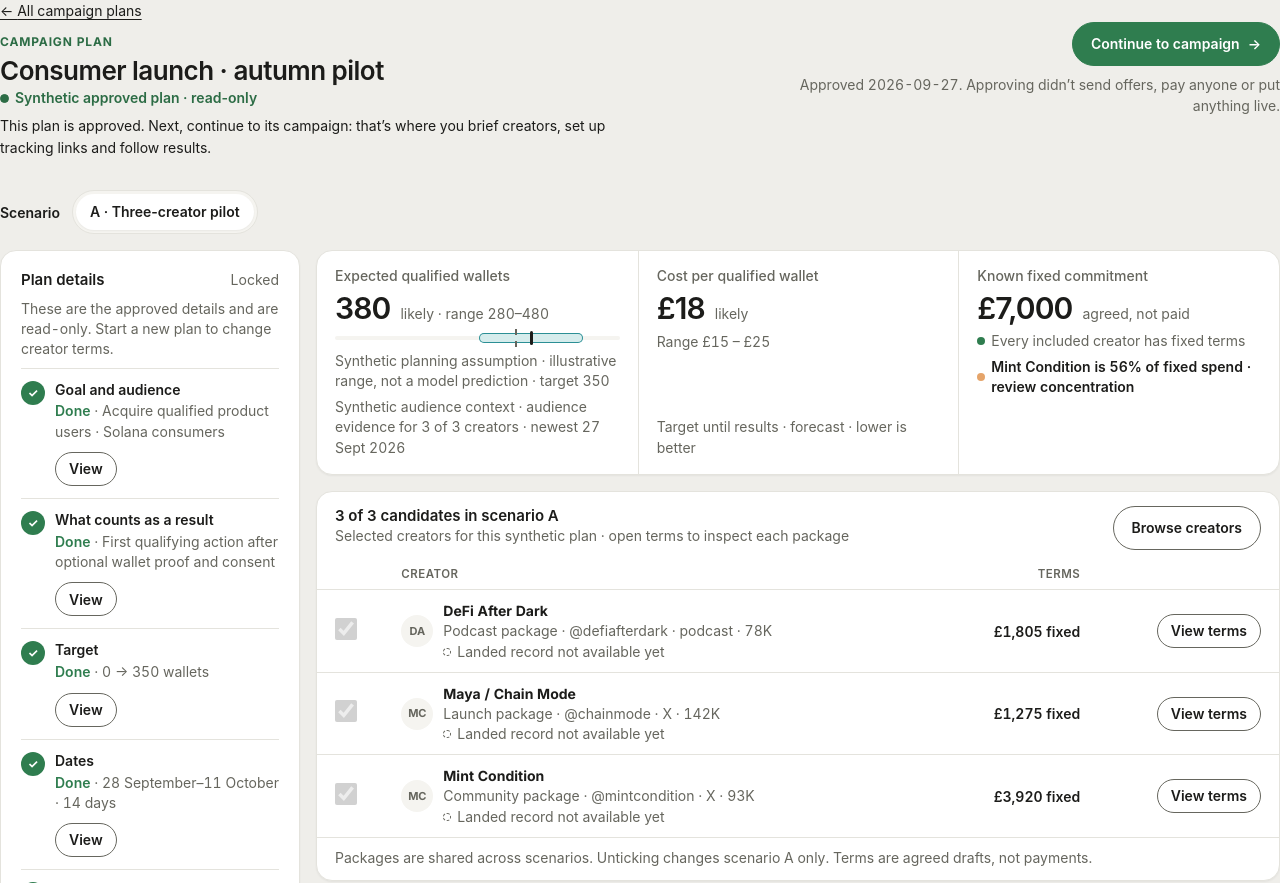
Test: keeps the five-step read-only plan connected to the neutral campaign route
This screenshot has width=1280, height=883.
Click the button with aria-label "View: Target".
click(86, 710)  # box top-left (55, 693), bottom-right (117, 727)
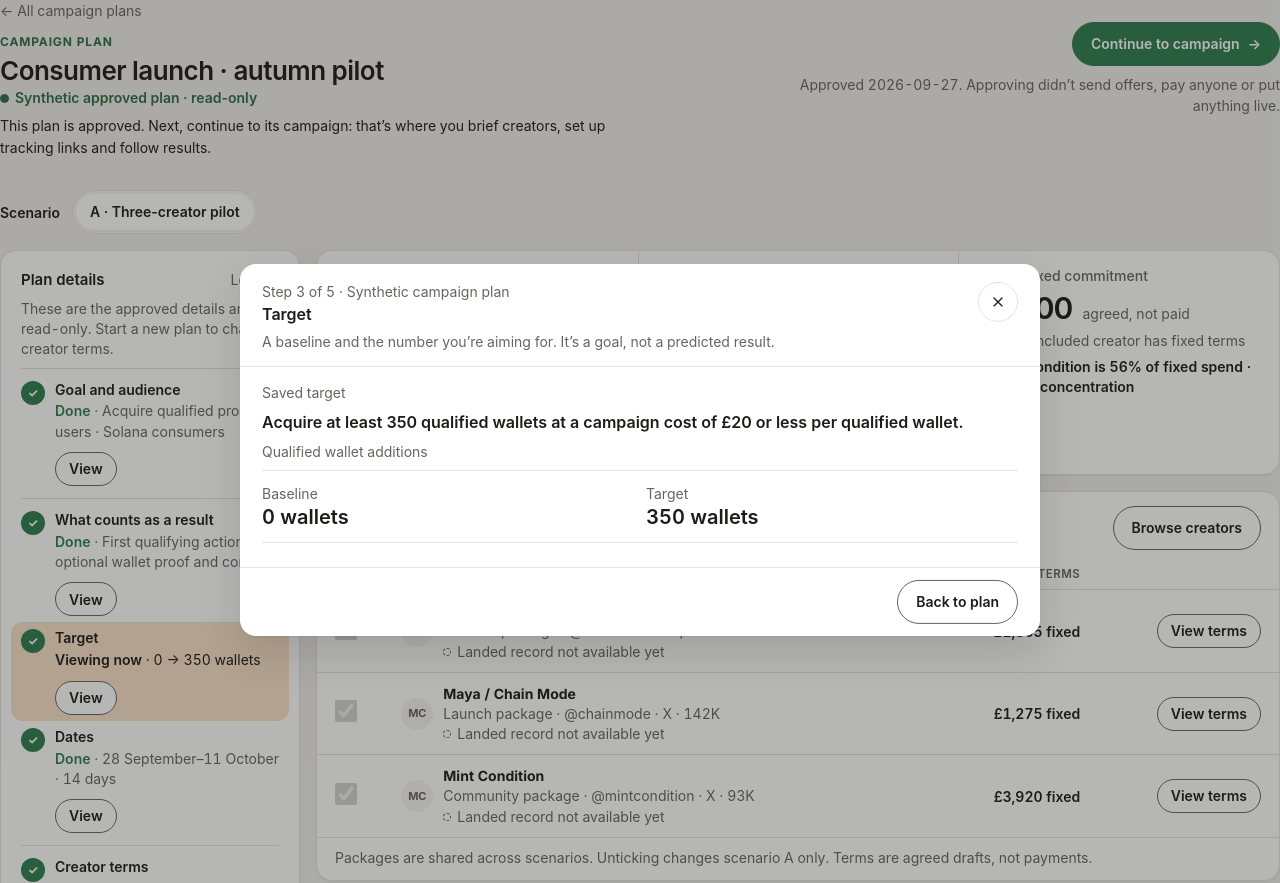
Check: the text "Step 3 of 5 · Synthetic campaign plan" is shown, box top-left (262, 283), bottom-right (510, 300)
Check: the text "350 wallets" is shown, box top-left (646, 505), bottom-right (759, 529)
